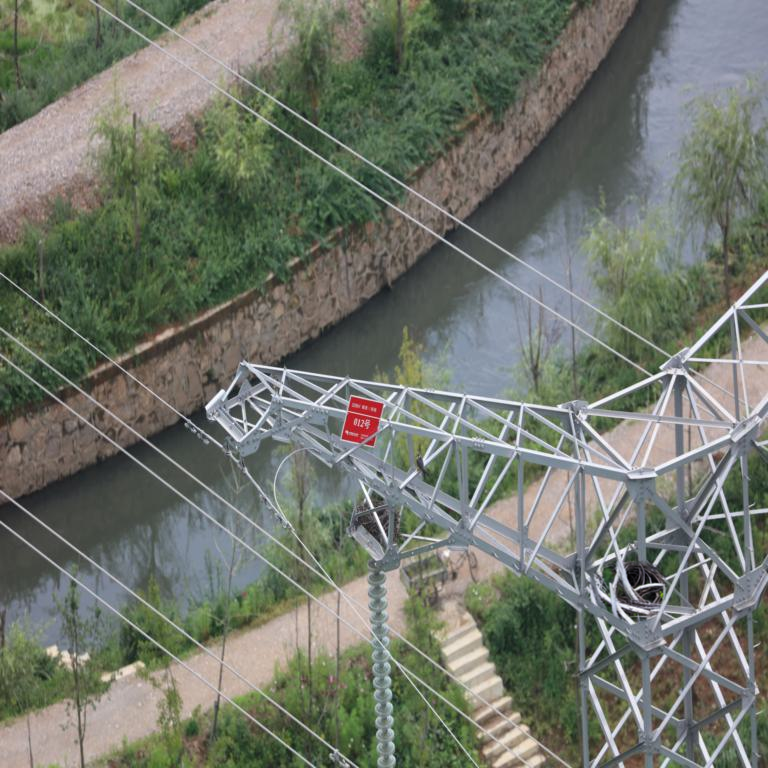nest: (620, 559, 666, 607), (357, 496, 394, 536)
